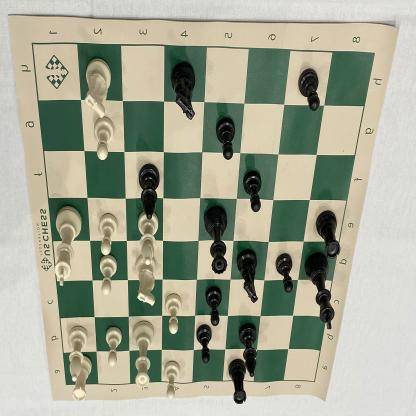black-bishop: (129, 162, 162, 223), (238, 320, 260, 381)
black-king: (304, 248, 337, 336)
black-pawn: (296, 64, 323, 114), (213, 113, 238, 165), (240, 168, 264, 216), (193, 322, 215, 369), (204, 283, 224, 332), (274, 250, 295, 296)
black-queen: (202, 205, 231, 278)
black-rook: (313, 206, 343, 262), (226, 355, 248, 407)
white-bishop: (135, 207, 162, 268), (64, 323, 90, 384)
white-king: (49, 203, 87, 291)
white-knight: (82, 55, 117, 119), (134, 254, 159, 310)
white-pawn: (90, 116, 116, 166), (96, 211, 121, 257), (97, 252, 120, 301), (162, 291, 184, 338), (102, 324, 124, 370), (162, 358, 182, 401)
white-queen: (129, 318, 158, 390)
white-rook: (70, 353, 96, 406)
